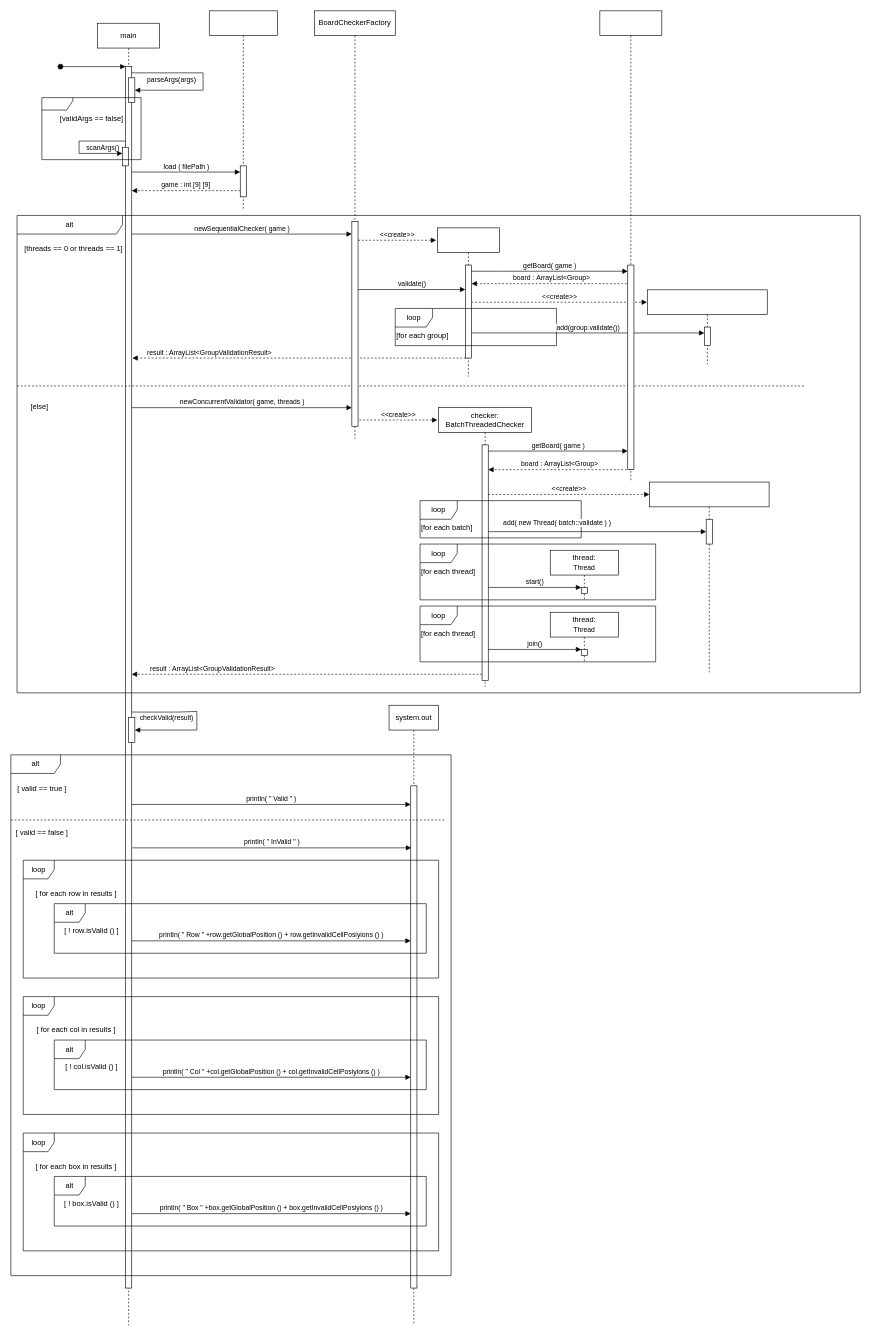
Image size: 871x1336. Some labels were removed from this diagram. The shapes that lost their labels are listed below. From the top down, each one's box as (x1, y1, x2, y2) in pixels, then its label:
(41, 97, 141, 160): opt
(209, 10, 277, 209): loader :CsvSudokuLoader
(599, 10, 662, 482): GroupFactory
(437, 227, 499, 377): checker: SequentialChecker
(647, 289, 767, 364): results: ArrayList<GroupValidationResult>
(649, 481, 769, 674): threads: ArrayList<Thread>
